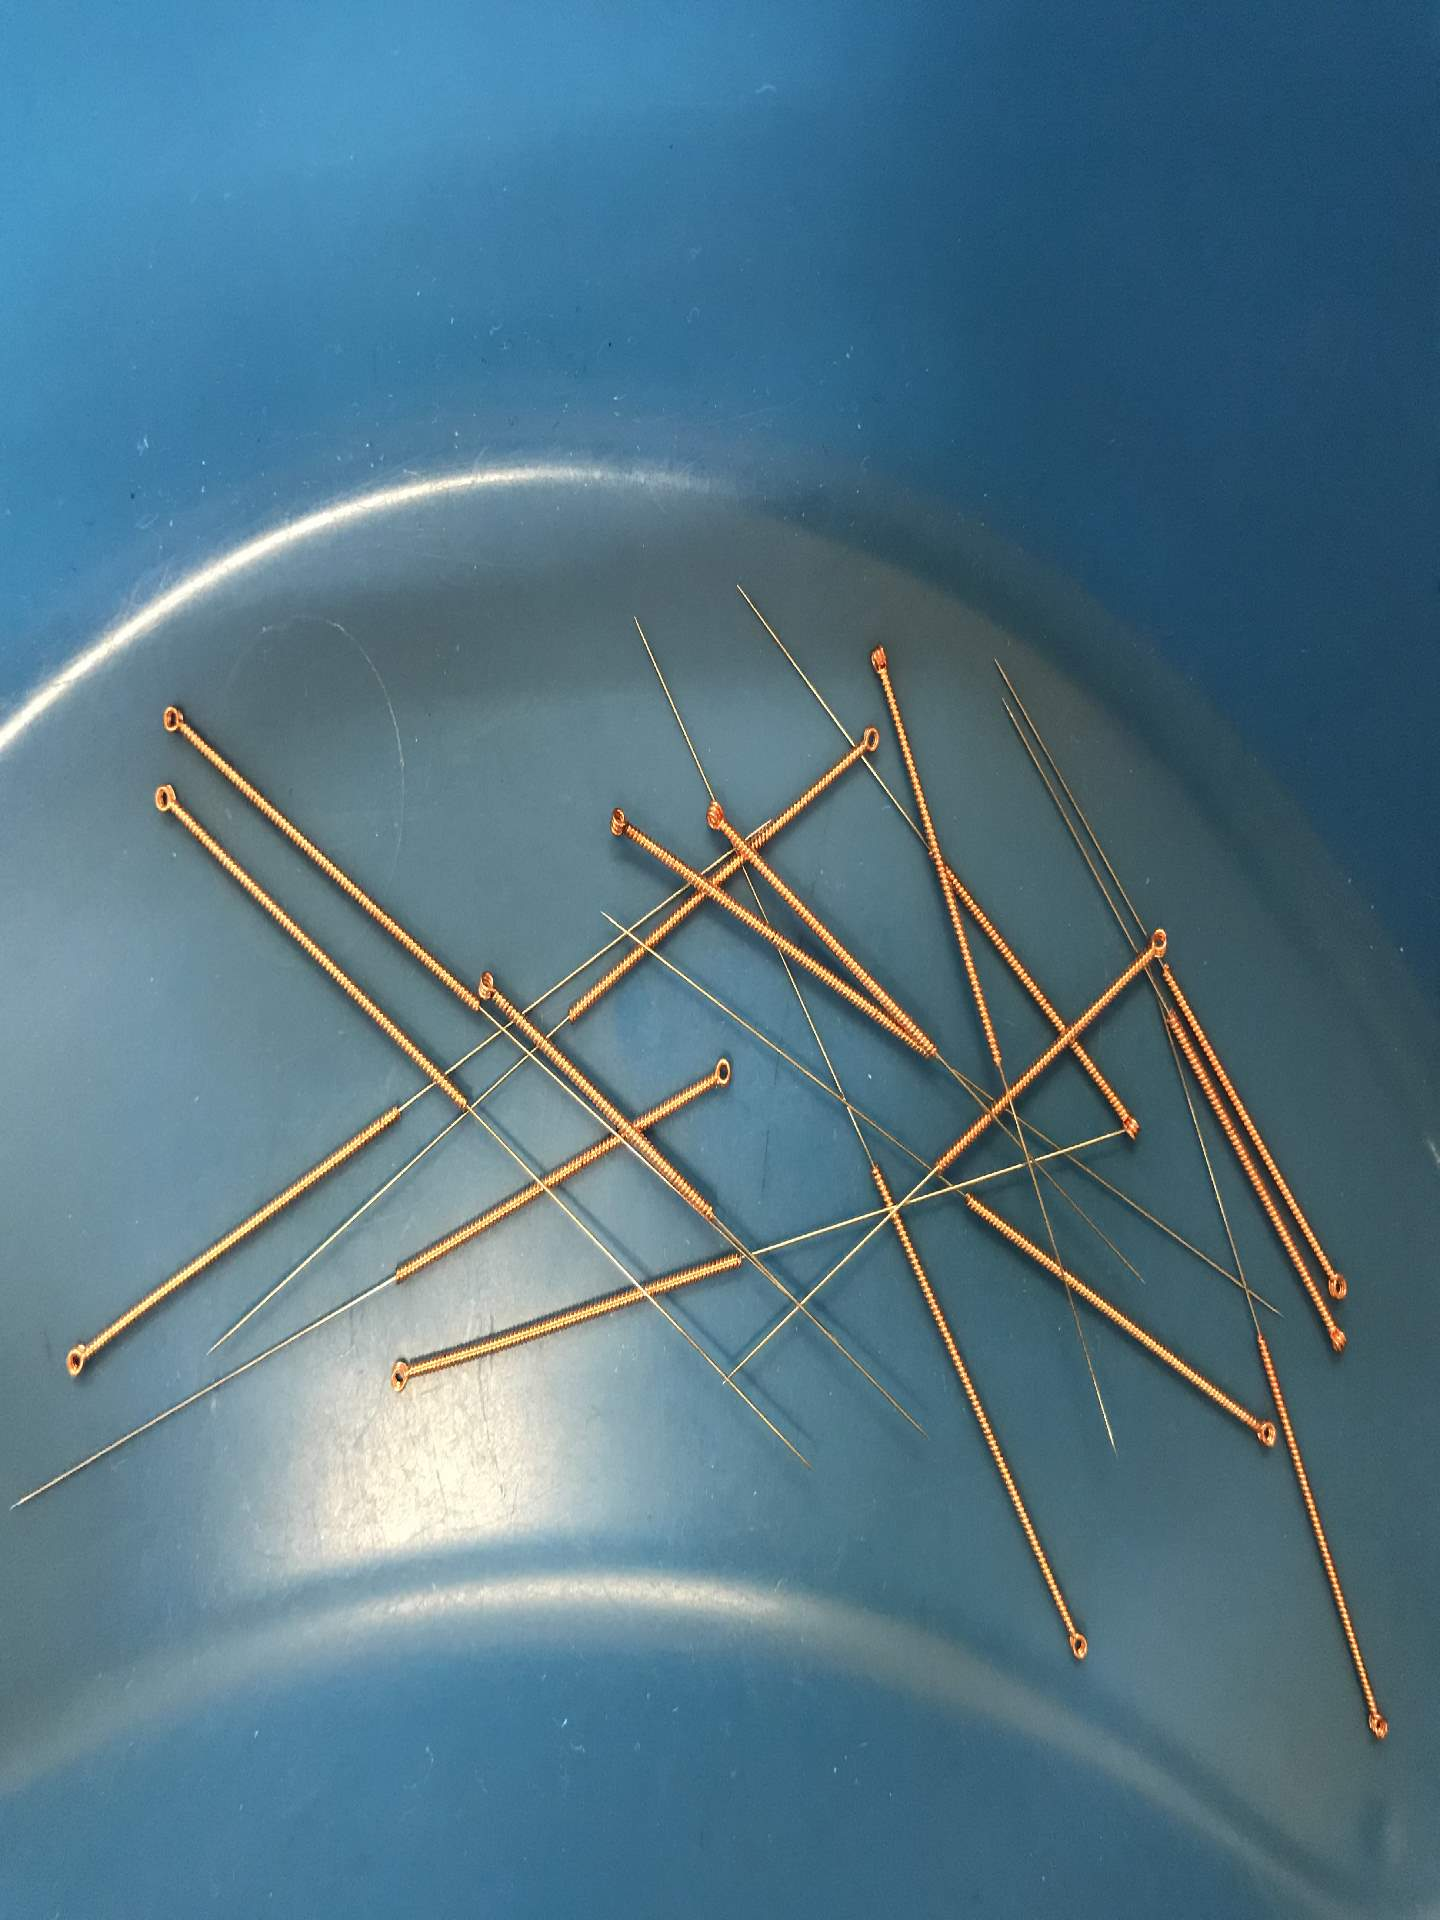needle: (1349, 1686, 1402, 1757), (150, 692, 203, 751), (141, 771, 194, 830), (54, 1330, 106, 1386), (1054, 1615, 1103, 1674), (594, 797, 644, 850), (858, 633, 905, 689), (693, 792, 740, 845), (1314, 1311, 1355, 1368), (380, 1347, 422, 1401), (843, 717, 889, 765), (699, 1051, 744, 1098), (1130, 921, 1178, 965), (1109, 1101, 1151, 1150), (1243, 1407, 1283, 1459), (1321, 1253, 1357, 1308), (473, 963, 508, 1007)
